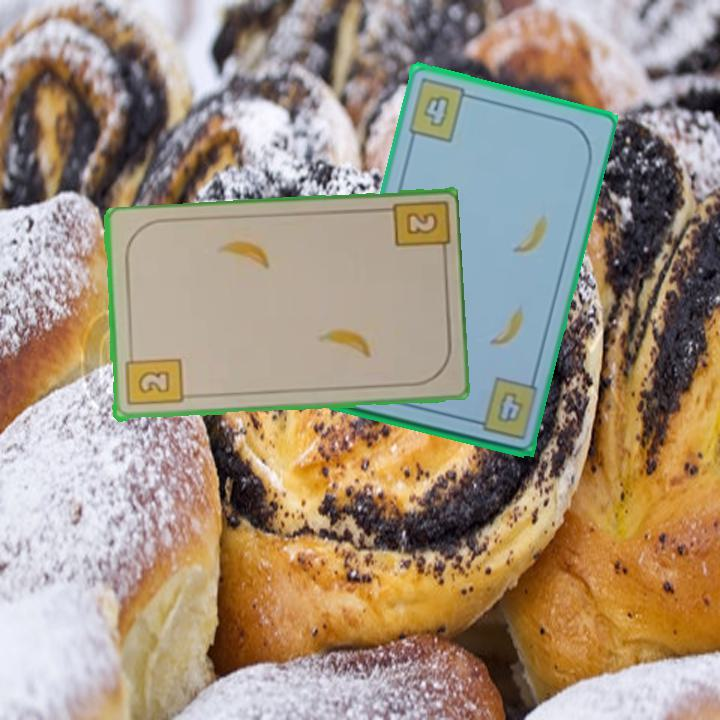2b: (121, 348, 184, 409), (402, 208, 441, 238)
4b: (404, 75, 478, 145), (492, 387, 526, 426)
